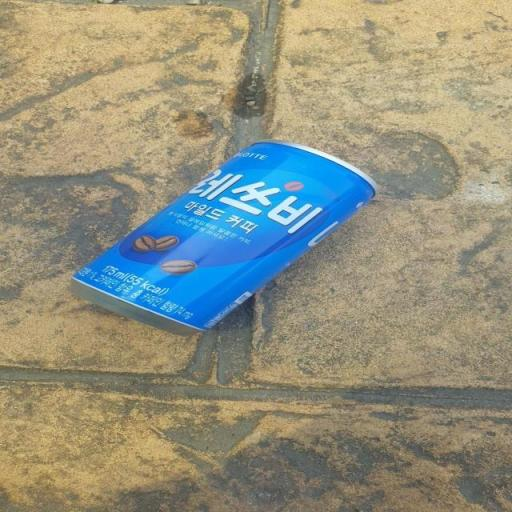metal: (59, 118, 454, 360)
